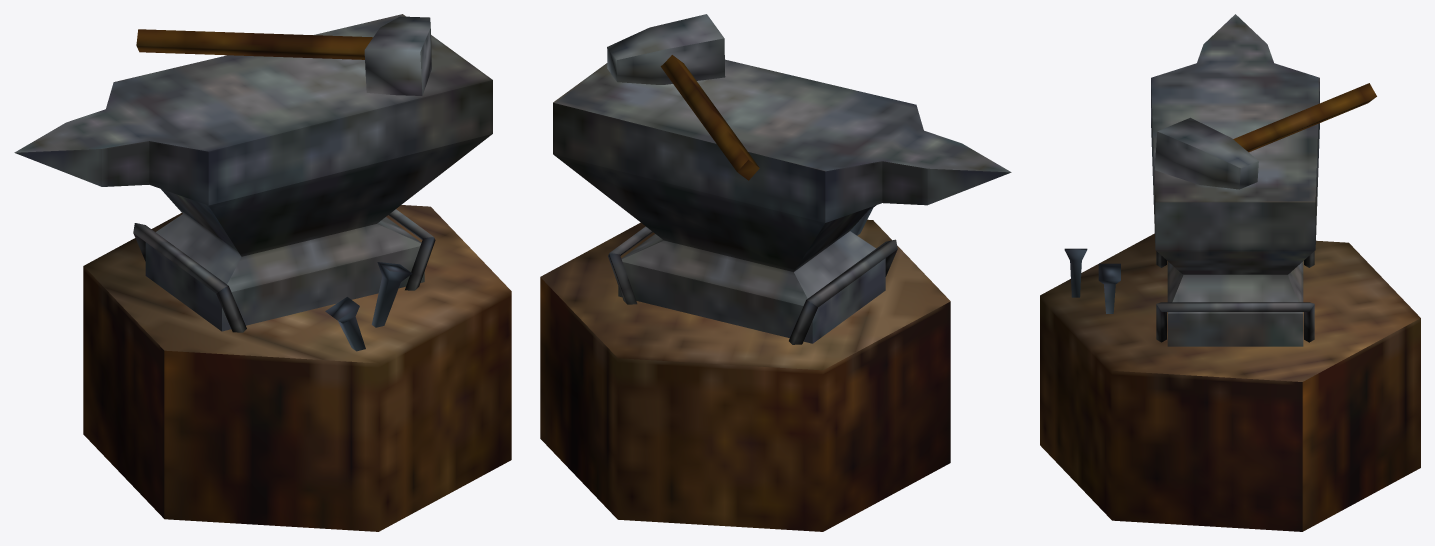
Rendered from b_general_obj_28.glb.
3 renders of one model, left to right at view 1: azimuth 30°, elevation 25°; view 2: azimuth 150°, elevation 25°; view 3: azimuth 270°, elevation 25°, orthographic. The views are drawn at different scales.
Visible parts, largest first — view 1: Sphere01; view 2: Sphere01; view 3: Sphere01.
Part boxes in pixels (box(x1,y1,x2,y2)): Sphere01: box(14, 14, 511, 531); Sphere01: box(540, 14, 1011, 531); Sphere01: box(1040, 14, 1420, 531).
Bounding box in the file's own units: 1.15 × 0.9784 × 0.9366.
1 material, 1 textured.
